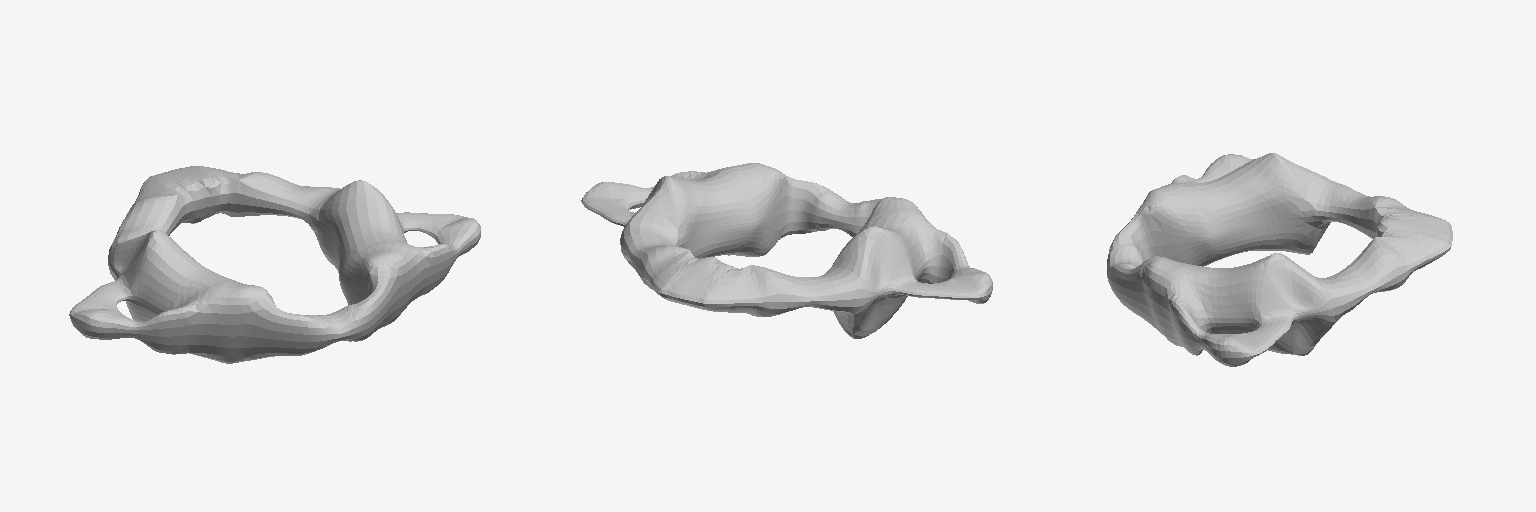
The model's file is atlas.obj.
The picture shows the model from 3 angles: view 1: azimuth 30°, elevation 25°; view 2: azimuth 150°, elevation 25°; view 3: azimuth 270°, elevation 25°; orthographic projection.
Parts seen in each view (by area): view 1: Atlas_High_Res; view 2: Atlas_High_Res; view 3: Atlas_High_Res.
Boxes of the visible parts, box(x1,y1,x2,y2) form: Atlas_High_Res: box(69, 166, 480, 363); Atlas_High_Res: box(581, 163, 992, 338); Atlas_High_Res: box(1107, 153, 1452, 366).
Bounding box in the file's own units: 0.7831 × 0.194 × 0.5831.